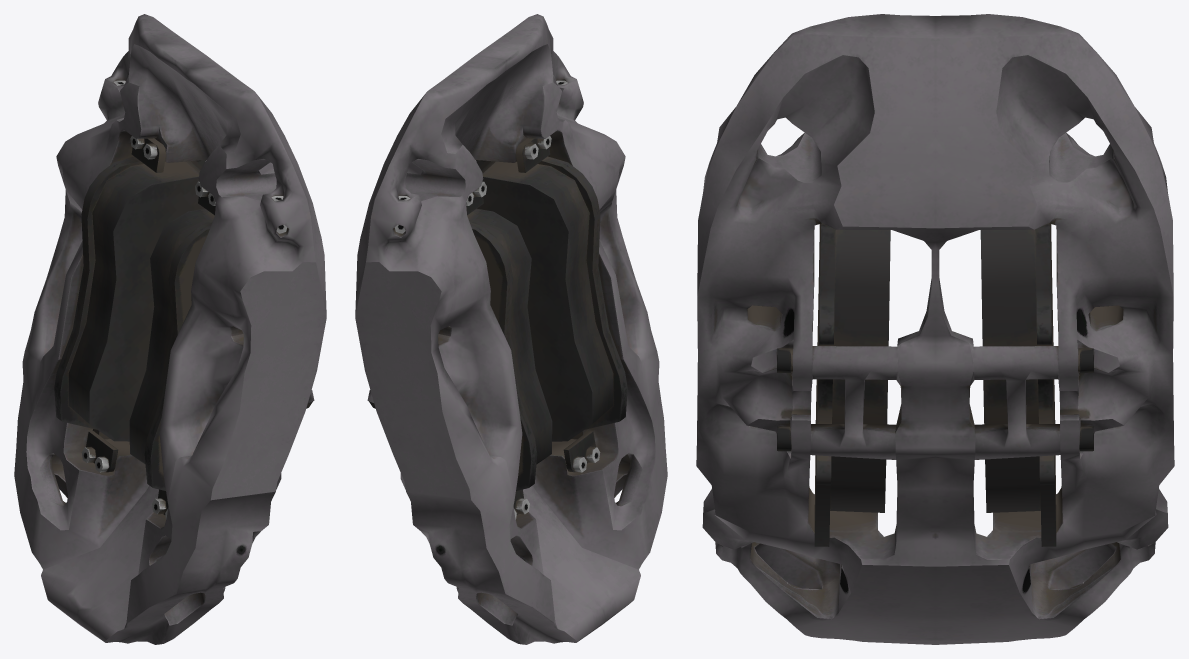
The model's file is FrontBrake.glb.
The picture shows the model from 3 angles, left to right: view 1: azimuth 30°, elevation 25°; view 2: azimuth 150°, elevation 25°; view 3: azimuth 270°, elevation 25°; orthographic projection. The views are drawn at different scales.
Parts seen in each view (by area): view 1: Object_32; view 2: Object_32; view 3: Object_32.
Part boxes in pixels (x1,y1,x2,y2): Object_32: (14, 14, 326, 644); Object_32: (355, 14, 667, 644); Object_32: (696, 14, 1174, 644).
Size of the model in its own units: 0.1101 by 0.301 by 0.1931.
Materials: 1 (1 with a texture image).
